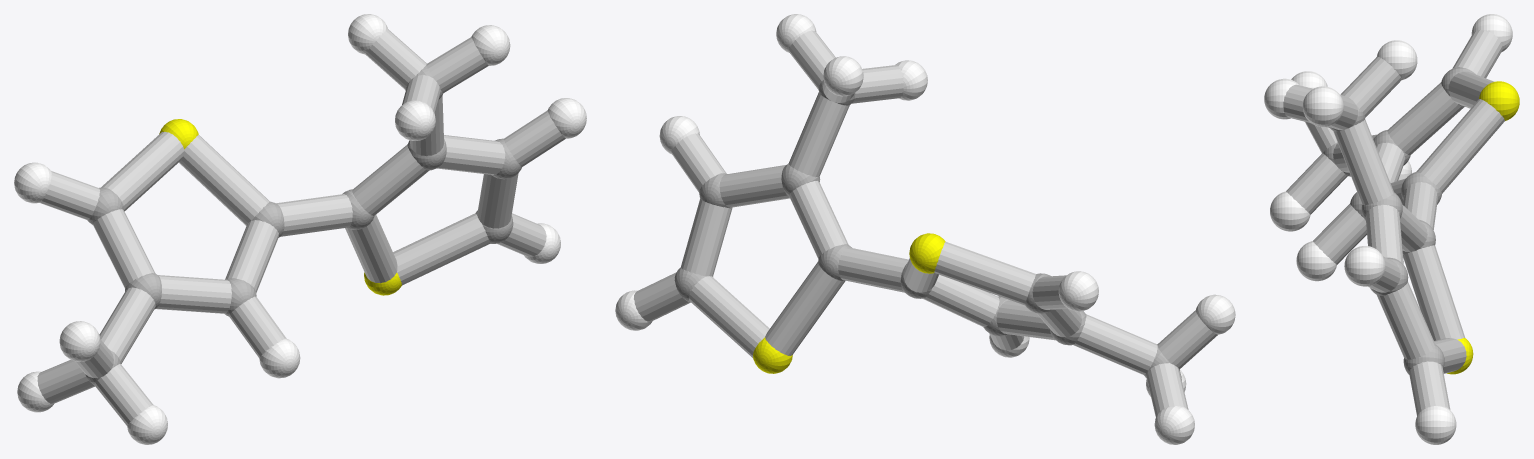
Rendered from color.glb.
3 renders of one model, left to right at view 1: azimuth 30°, elevation 25°; view 2: azimuth 150°, elevation 25°; view 3: azimuth 270°, elevation 25°, orthographic.
Visible parts, largest first — view 1: grp7965, grp3621, grp1, grp7241; view 2: grp7965, grp3621, grp1, grp7241; view 3: grp7965, grp3621, grp1, grp7241.
Boxes of the visible parts, x1,y1,x2,y2 form: grp7965: (37, 29, 565, 425); grp3621: (14, 14, 586, 444); grp1: (85, 66, 521, 384); grp7241: (159, 119, 401, 295); grp7965: (634, 30, 1217, 416); grp3621: (615, 14, 1235, 444); grp1: (674, 80, 1179, 377); grp7241: (753, 233, 945, 373); grp7965: (1283, 30, 1504, 415); grp3621: (1264, 14, 1512, 444); grp1: (1323, 67, 1475, 374); grp7241: (1447, 81, 1519, 374).
Size of the model in its own units: 9.45 by 5.18 by 3.73.
